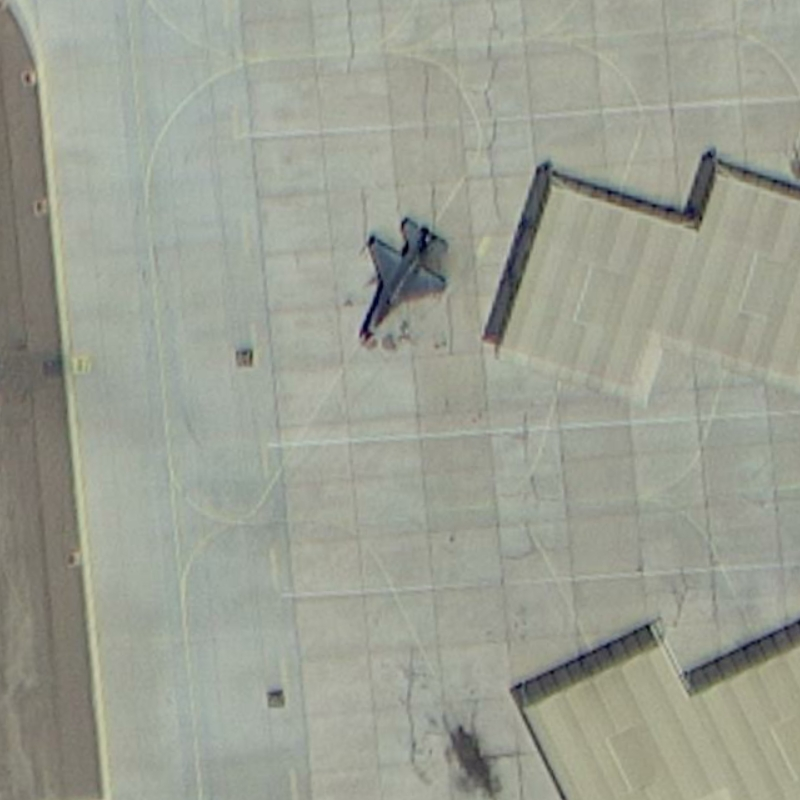A5: (351, 211, 458, 346)
